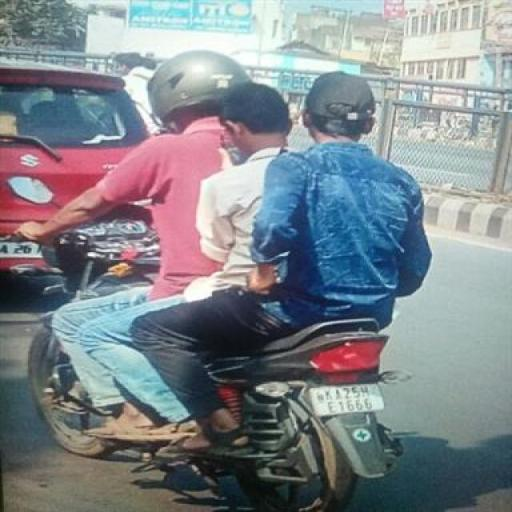tripple riding: (14, 44, 444, 352)
